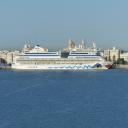cruises: (13, 46, 116, 71)
